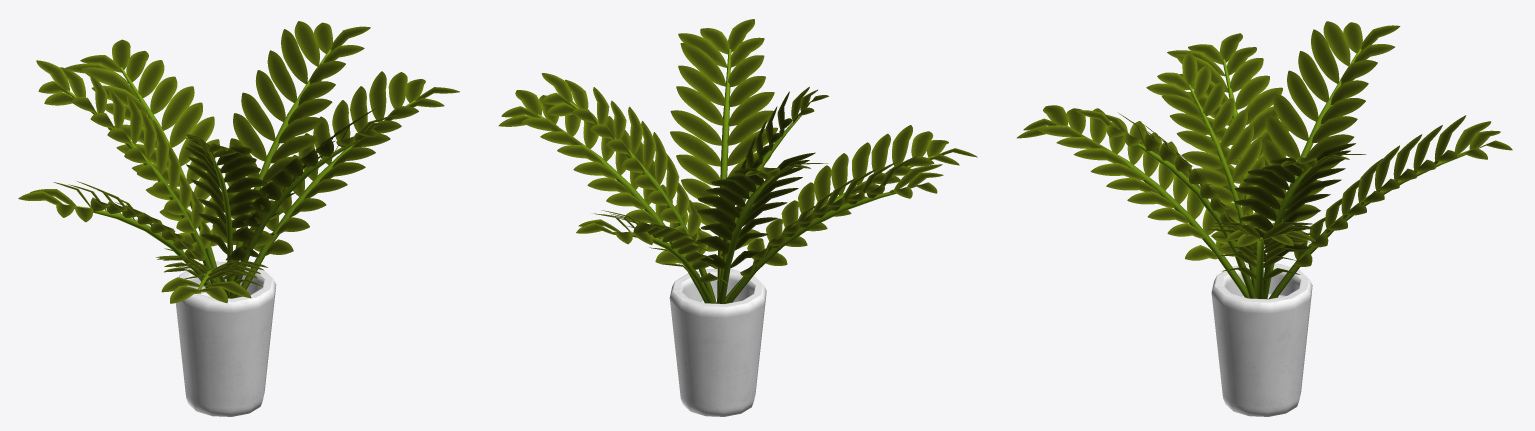
File: Plant_A.fbx
3 renders of one model, left to right at view 1: azimuth 30°, elevation 25°; view 2: azimuth 150°, elevation 25°; view 3: azimuth 270°, elevation 25°, orthographic. The views are drawn at different scales.
Parts seen in each view (by area): view 1: U_Plant_A; view 2: U_Plant_A; view 3: U_Plant_A.
Boxes of the visible parts, x1,y1,x2,y2 form: U_Plant_A: (18,21,459,416); U_Plant_A: (498,19,977,416); U_Plant_A: (1017,21,1512,416).
Size of the model in its own units: 246 by 166 by 241.
3 materials, 3 textured.
